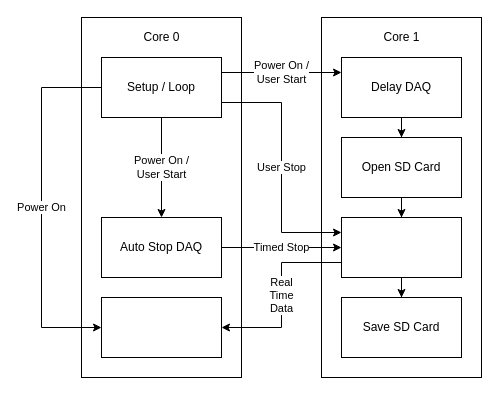
Image size: 499x395. Some labels were removed from this diagram. Each missing label, with the centre of its shape:
DAQ Loop: pixel 401 247
System Loop: pixel 161 327
